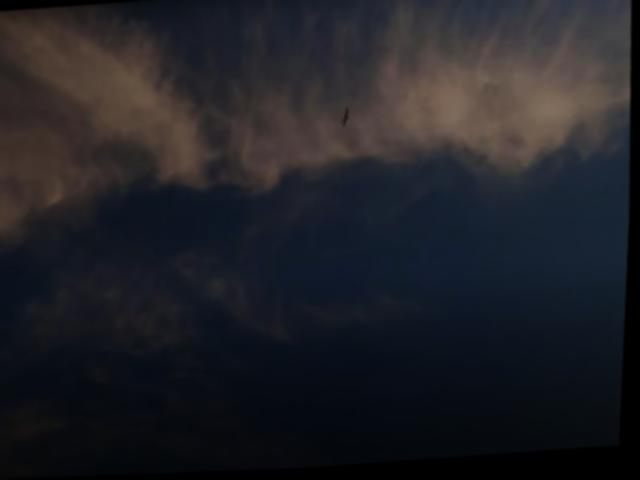iha: (338, 109, 355, 131)
